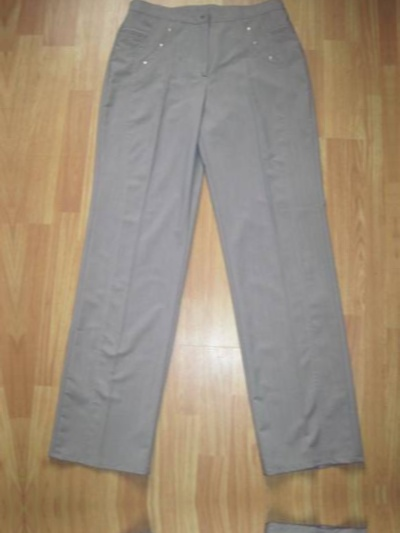Pants: (31, 3, 380, 487), (52, 516, 400, 533), (0, 531, 15, 533)
